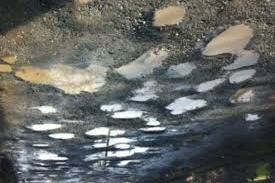pothole: (4, 56, 112, 94), (201, 20, 270, 72), (114, 45, 170, 81), (147, 3, 192, 30), (83, 145, 149, 162), (162, 93, 209, 114), (127, 79, 163, 102), (228, 85, 259, 108), (228, 66, 259, 87), (80, 126, 128, 139), (163, 62, 199, 79), (94, 136, 138, 149), (195, 74, 226, 91), (31, 149, 70, 162), (244, 104, 266, 123), (137, 123, 171, 134), (23, 122, 64, 131), (96, 100, 127, 111), (106, 109, 143, 118), (89, 159, 112, 172), (113, 159, 144, 168), (46, 132, 74, 141), (16, 164, 50, 171), (139, 115, 162, 124), (33, 106, 58, 113), (53, 161, 70, 170), (144, 144, 161, 153), (31, 142, 51, 147)
